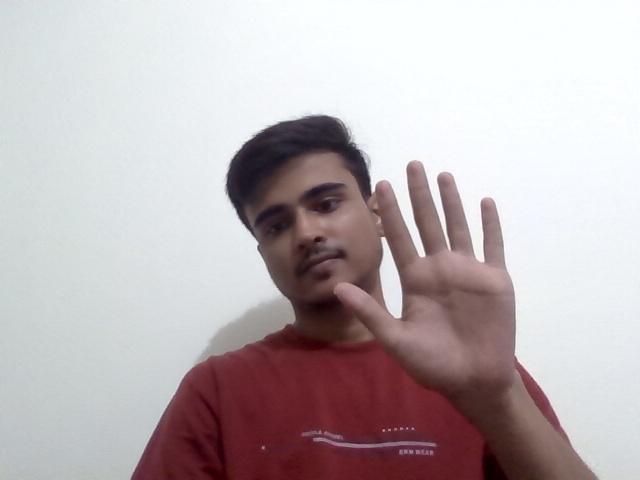Hello: (300, 141, 576, 425)
